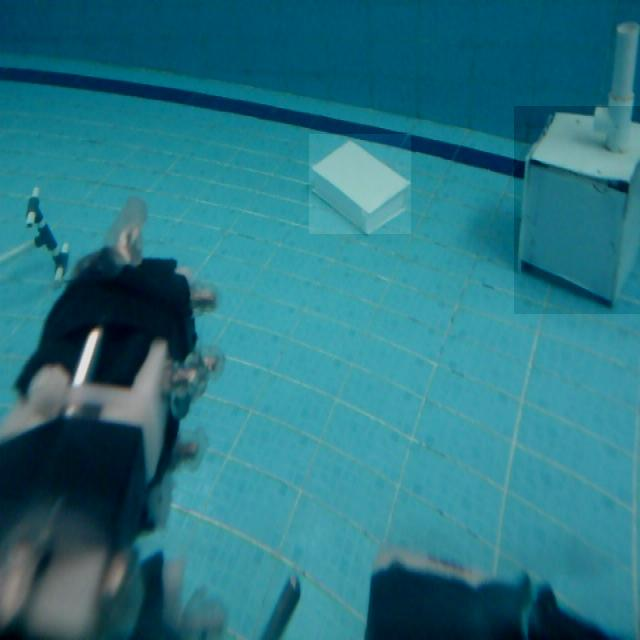Cube: (514, 106, 640, 314)
Cuboid: (309, 134, 411, 234)
